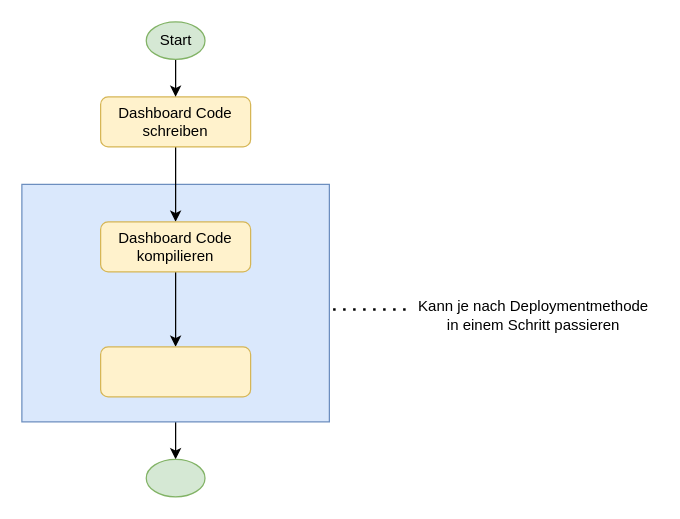
Image size: 680x519. Some labels were removed from this diagram. The shapes that lost their labels are listed below. From the top down, each one's centre as x and y in pixels, then its label:
At point 175,371: "Dashboard Binaries deployen".
At point 175,477: "Ende".
